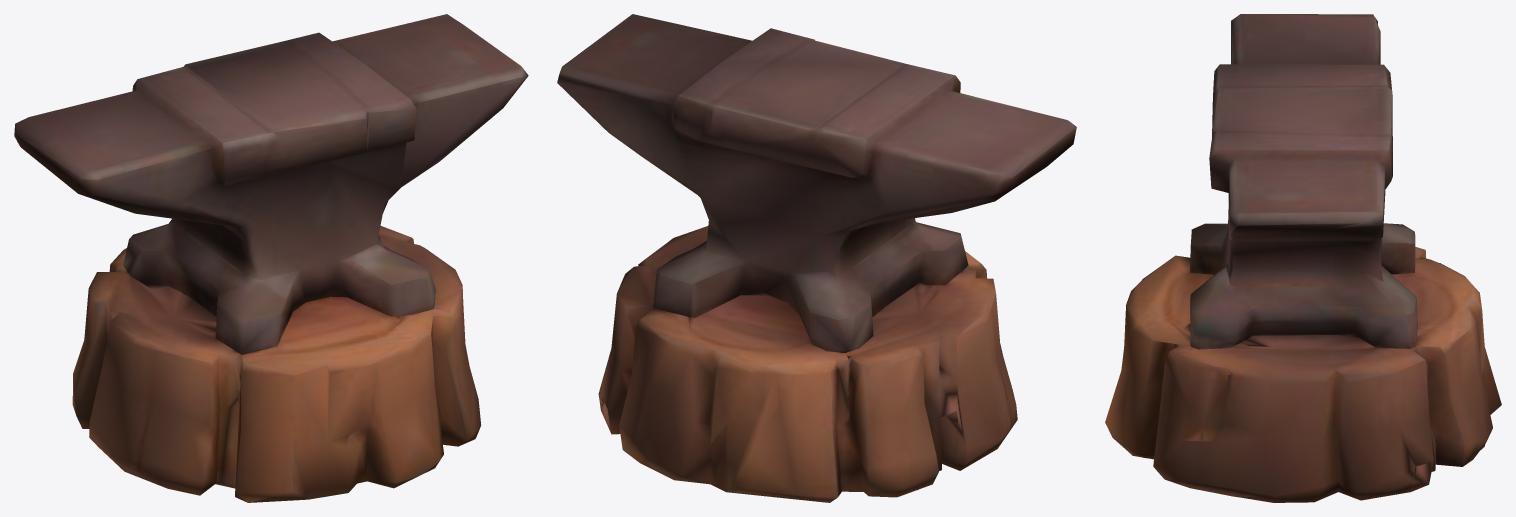
File: lg-forge-anvil.glb
The picture shows the model from 3 angles, left to right: view 1: azimuth 30°, elevation 25°; view 2: azimuth 150°, elevation 25°; view 3: azimuth 270°, elevation 25°; orthographic projection. The views are drawn at different scales.
Parts seen in each view (by area): view 1: geometry_0; view 2: geometry_0; view 3: geometry_0.
Boxes of the visible parts, box(x1,y1,x2,y2) form: geometry_0: box(14, 14, 528, 502); geometry_0: box(557, 14, 1076, 502); geometry_0: box(1105, 14, 1501, 502).
Bounding box in the file's own units: 1 × 0.7186 × 0.8121.
1 material, 1 textured.
